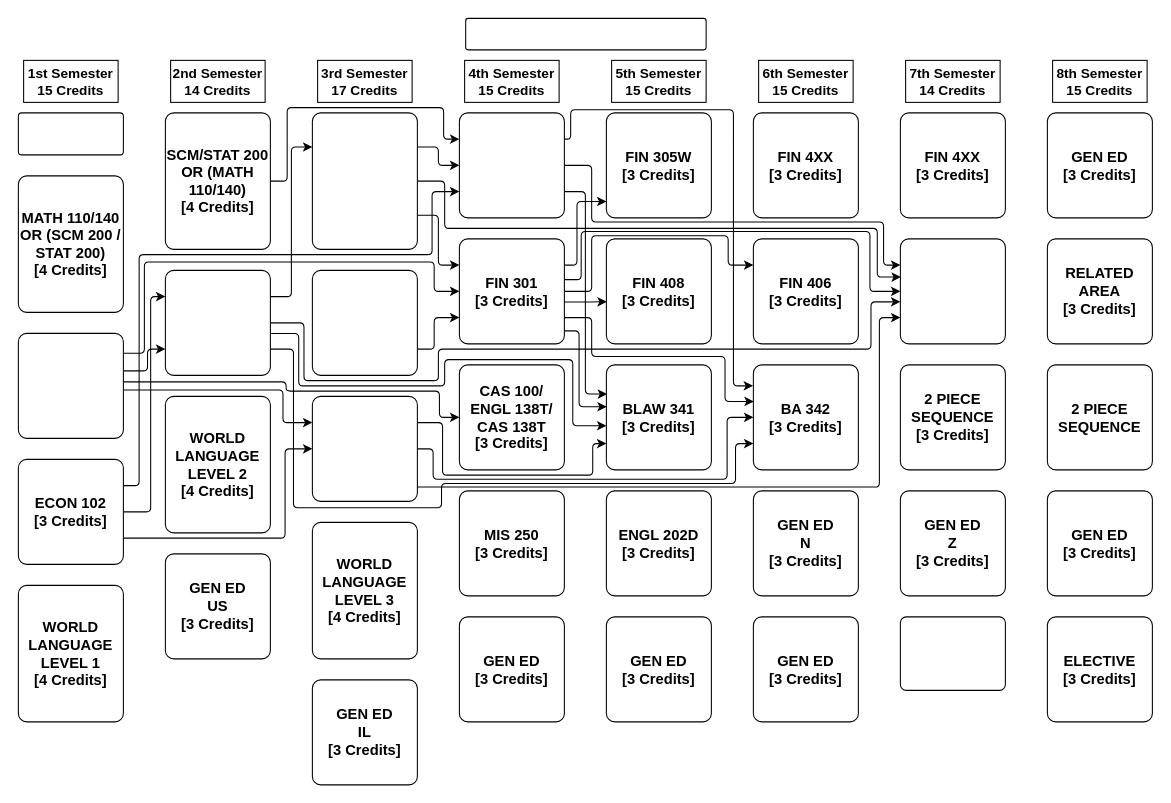
Some shapes in this 1171 by 803 pixel diagram are drawn without their labels. Each missing label, with the centre of its shape:
"ACCTG 211 [4 Credits]" belongs at pixel 364 180.
"BA 411 [3 Credits]" belongs at pixel 952 291.
"ECON 104 [3 Credits]" belongs at pixel 364 322.
"ELECTIVE [2 Credits]" belongs at pixel 952 653.
"ENGL 15/30H / ESL 15 / ENGL137H / CAS 137H [3 Credits]" belongs at pixel 70 385.
"Finance" belongs at pixel 585 33.
"MGMT 301 [3 Credits]" belongs at pixel 217 322.
"MKTG 301 [3 Credits]" belongs at pixel 364 448.
"PSU 6 [1 Credits]" belongs at pixel 70 133.
"SCM 301 [3 Credits]" belongs at pixel 511 165.
